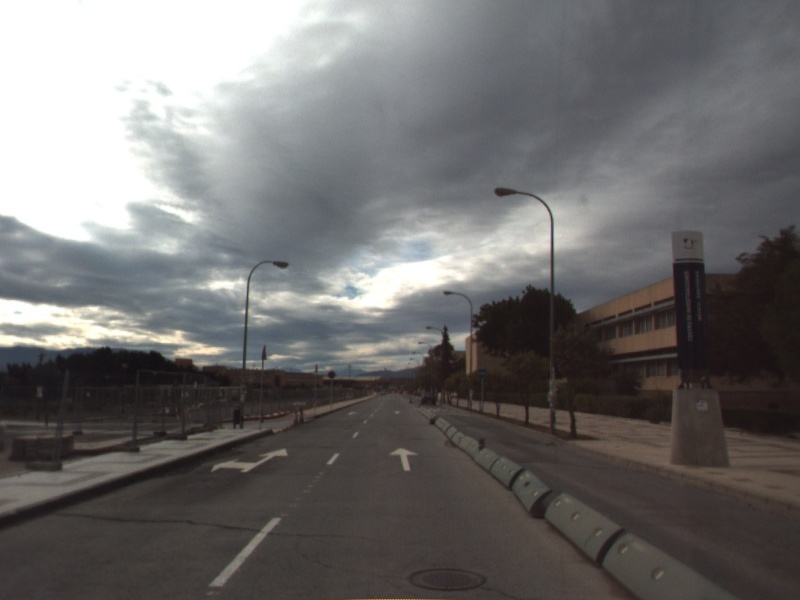STRAIGHT: (387, 445, 421, 473)
STRAIGHT_LEFT: (208, 446, 290, 475)
